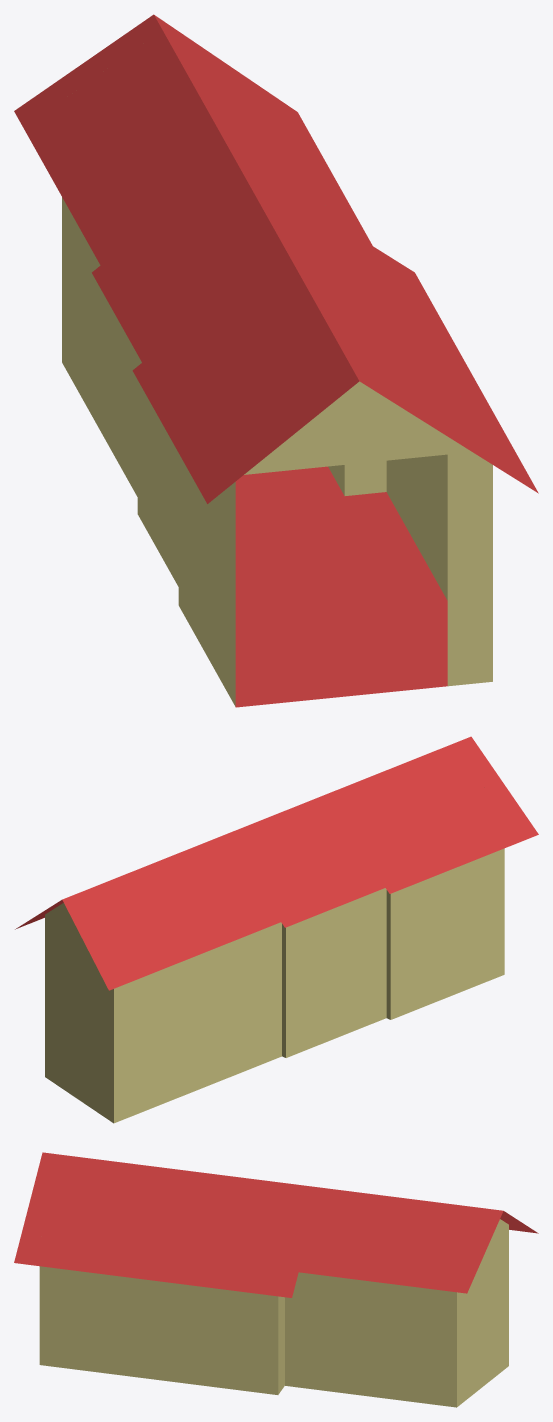
The picture shows the model from 3 angles, top to bottom: view 1: azimuth 30°, elevation 25°; view 2: azimuth 150°, elevation 25°; view 3: azimuth 270°, elevation 25°; orthographic projection. The views are drawn at different scales.
Size of the model in its own units: 20.9 by 38.17 by 14.3.
